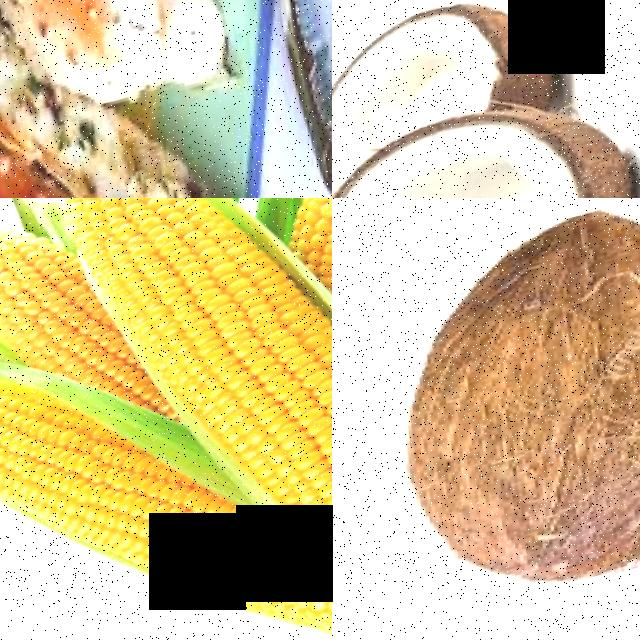coconut: (345, 198, 640, 637), (332, 0, 575, 159), (332, 94, 640, 198)
corn: (55, 446, 332, 640), (117, 250, 332, 478), (0, 335, 143, 544), (59, 198, 291, 324), (251, 314, 332, 640), (0, 200, 127, 392)
crab: (0, 0, 245, 198), (0, 0, 234, 117)
